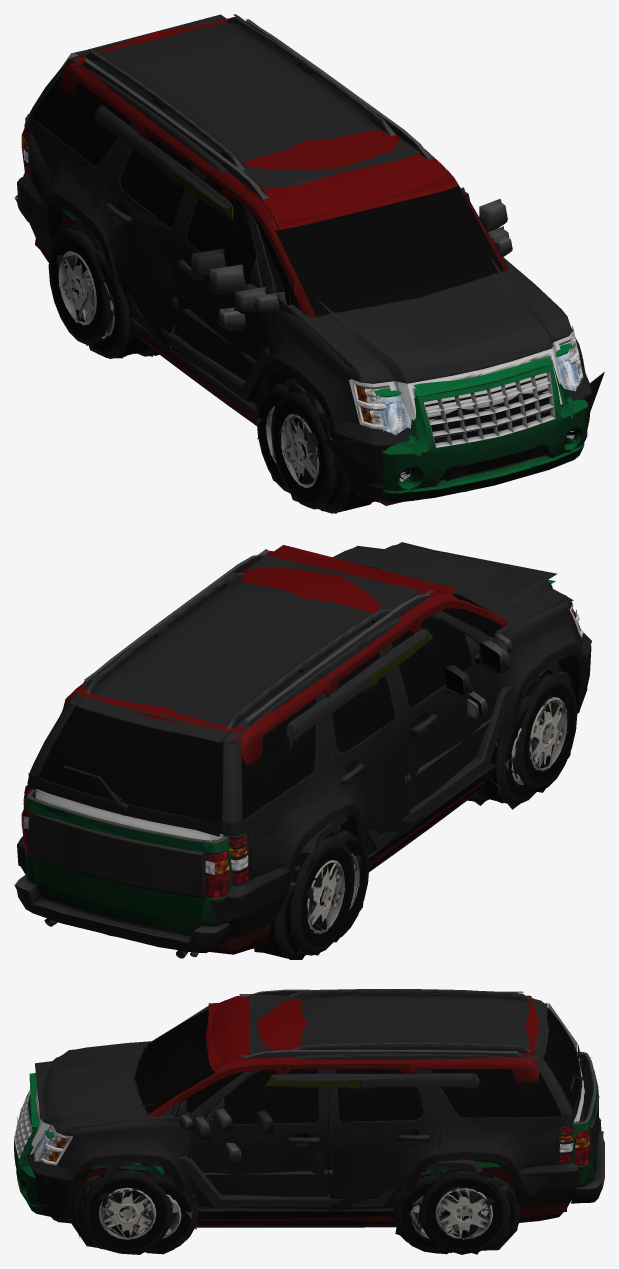
File: traffic.glb
3 renders of one model, top to bottom at view 1: azimuth 30°, elevation 25°; view 2: azimuth 150°, elevation 25°; view 3: azimuth 270°, elevation 25°, orthographic. The views are drawn at different scales.
Visible parts, largest first — view 1: suv, minivan, pickup, offroad, suv_lod0_Wheel_E002_Wheel_0.001, suv_lod0_Wheel_E003_Wheel_0.001, offroad_lod0_Wheel_G001_Wheel_0.001, suv_lod1_Wheel_E002_Wheel_0.001, suv_lod1_Wheel_E003_Wheel_0.001, estate; view 2: suv, pickup, minivan, offroad, suv_lod0_Wheel_E003_Wheel_0.001, suv_lod0_Wheel_E002_Wheel_0.001, offroad_lod0_Wheel_G001_Wheel_0.001, suv_lod1_Wheel_E003_Wheel_0.001, suv_lod1_Wheel_E002_Wheel_0.001, suv_lod2_Wheel_E002_Wheel_0.001; view 3: suv, minivan, offroad, pickup, suv_lod0_Wheel_E_Wheel_0.001, suv_lod0_Wheel_E001_Wheel_0.001, suv_lod1_Wheel_E001_Wheel_0.001, suv_lod1_Wheel_E_Wheel_0.001, estate, suv_lod2_Wheel_E001_Wheel_0.001, suv_lod2_Wheel_E_Wheel_0.001.
Boxes of the visible parts, left/top/right/bottom form: suv: left=17, top=14, right=604, bottom=496; minivan: left=35, top=16, right=512, bottom=505; pickup: left=14, top=114, right=588, bottom=513; offroad: left=57, top=105, right=469, bottom=459; suv_lod0_Wheel_E002_Wheel_0.001: left=271, top=389, right=339, bottom=509; suv_lod0_Wheel_E003_Wheel_0.001: left=48, top=227, right=112, bottom=345; offroad_lod0_Wheel_G001_Wheel_0.001: left=256, top=382, right=316, bottom=492; suv_lod1_Wheel_E002_Wheel_0.001: left=281, top=386, right=335, bottom=509; suv_lod1_Wheel_E003_Wheel_0.001: left=49, top=228, right=111, bottom=332; estate: left=144, top=307, right=262, bottom=425; suv: left=17, top=542, right=591, bottom=937; pickup: left=14, top=579, right=558, bottom=959; minivan: left=39, top=545, right=561, bottom=957; offroad: left=286, top=628, right=568, bottom=942; suv_lod0_Wheel_E003_Wheel_0.001: left=286, top=835, right=354, bottom=955; suv_lod0_Wheel_E002_Wheel_0.001: left=513, top=672, right=577, bottom=790; offroad_lod0_Wheel_G001_Wheel_0.001: left=478, top=695, right=554, bottom=804; suv_lod1_Wheel_E003_Wheel_0.001: left=287, top=835, right=345, bottom=955; suv_lod1_Wheel_E002_Wheel_0.001: left=515, top=674, right=571, bottom=792; suv_lod2_Wheel_E002_Wheel_0.001: left=513, top=677, right=569, bottom=773; suv: left=24, top=989, right=587, bottom=1234; minivan: left=51, top=989, right=570, bottom=1225; offroad: left=81, top=1073, right=507, bottom=1254; pickup: left=14, top=1051, right=604, bottom=1250; suv_lod0_Wheel_E_Wheel_0.001: left=81, top=1168, right=173, bottom=1253; suv_lod0_Wheel_E001_Wheel_0.001: left=418, top=1169, right=510, bottom=1253; suv_lod1_Wheel_E001_Wheel_0.001: left=418, top=1169, right=510, bottom=1254; suv_lod1_Wheel_E_Wheel_0.001: left=81, top=1169, right=173, bottom=1254; estate: left=185, top=1142, right=395, bottom=1227; suv_lod2_Wheel_E001_Wheel_0.001: left=418, top=1169, right=510, bottom=1254; suv_lod2_Wheel_E_Wheel_0.001: left=82, top=1169, right=170, bottom=1239.
Bounding box in the file's own units: 2.31 × 1.94 × 5.35.
Materials: 32 (24 with a texture image).
